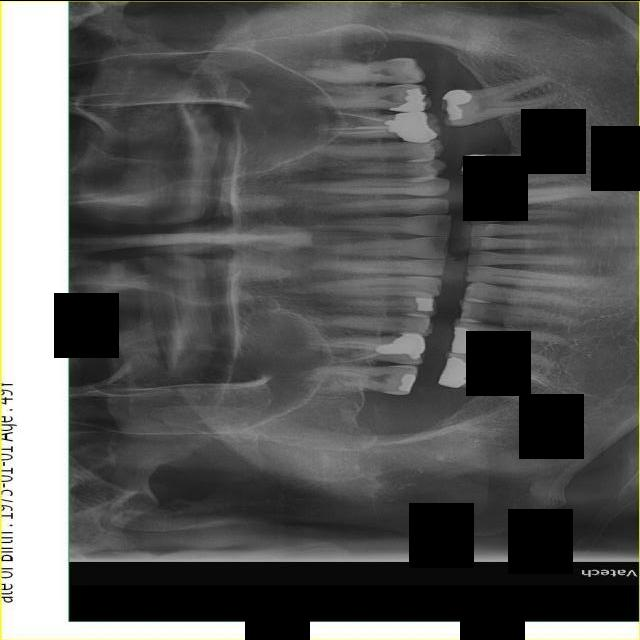71: (353, 125, 394, 129)
74: (471, 374, 538, 406), (480, 365, 550, 386), (328, 350, 383, 365), (333, 110, 387, 123), (313, 342, 376, 349), (325, 339, 381, 346), (338, 128, 387, 136), (321, 126, 357, 129)
NucleOSS Implant: (438, 353, 487, 397), (374, 325, 428, 360), (383, 111, 438, 143), (441, 85, 478, 122), (388, 87, 427, 112), (388, 88, 428, 112), (450, 325, 474, 354), (461, 152, 489, 171), (398, 371, 418, 393), (415, 296, 436, 311)
